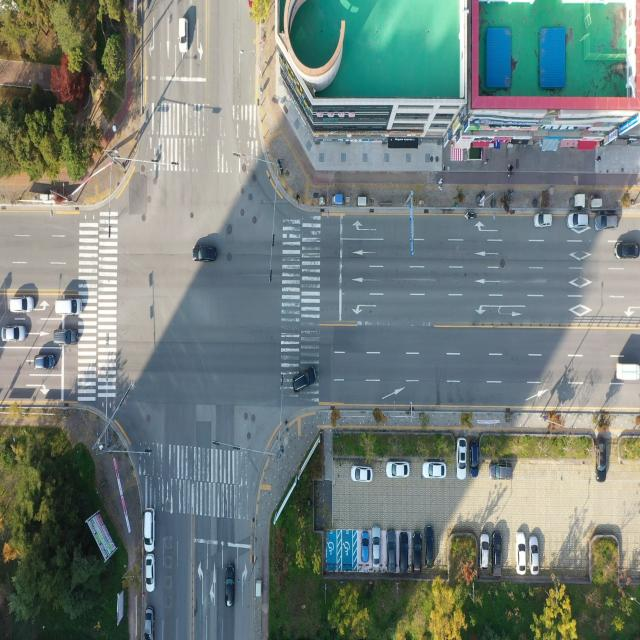car: (291, 368, 316, 392), (488, 462, 514, 482), (492, 531, 502, 578), (193, 245, 217, 264), (10, 298, 36, 315), (56, 300, 82, 317), (516, 531, 526, 575), (595, 213, 619, 231), (424, 462, 448, 480), (425, 525, 436, 564), (144, 509, 154, 551), (597, 438, 609, 473), (385, 532, 395, 573), (458, 440, 468, 480), (54, 330, 79, 346), (414, 533, 424, 573), (618, 243, 640, 261), (372, 527, 381, 571), (225, 564, 234, 607), (528, 536, 538, 574), (2, 325, 24, 342), (469, 442, 479, 478), (399, 533, 408, 573), (568, 213, 589, 230), (386, 462, 408, 478), (145, 554, 154, 592), (179, 18, 188, 55), (352, 466, 372, 482), (35, 355, 55, 371), (143, 608, 153, 640), (361, 530, 369, 564), (482, 536, 490, 570), (533, 213, 551, 228)
small_truck: (616, 362, 640, 381)
